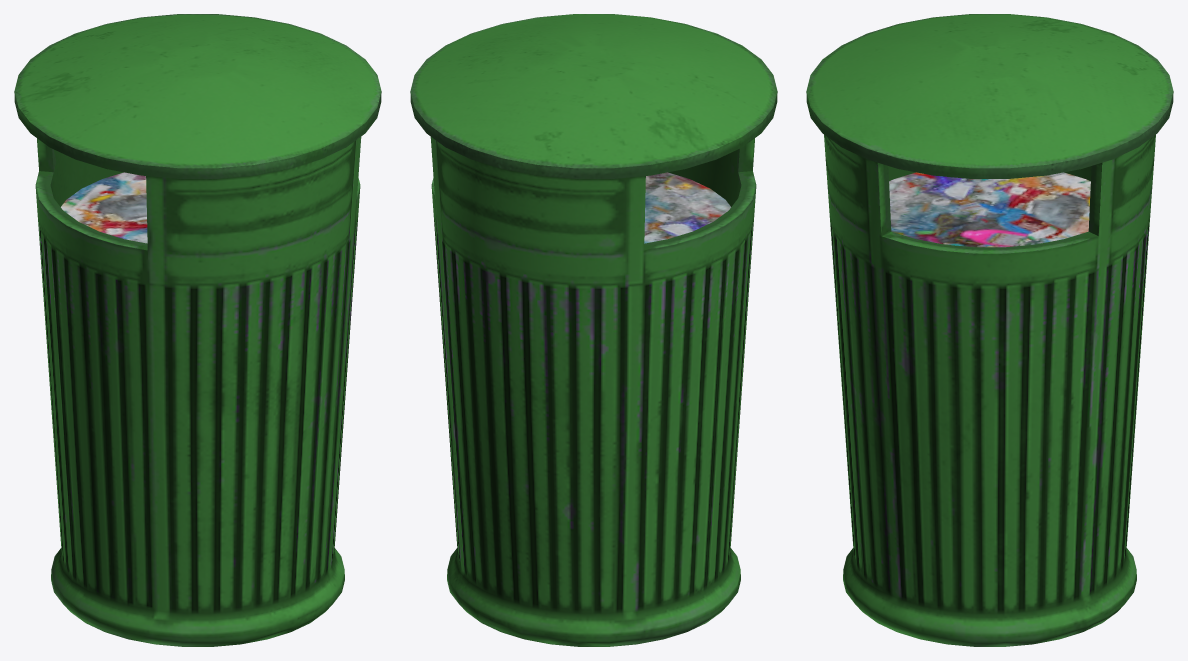
File: MB_Urn_02.fbx
3 views of the same model, side by side, from view 1: azimuth 30°, elevation 25°; view 2: azimuth 150°, elevation 25°; view 3: azimuth 270°, elevation 25° (orthographic).
Visible parts, largest first — view 1: MB_Urn_02_LOD0; view 2: MB_Urn_02_LOD0; view 3: MB_Urn_02_LOD0.
Boxes of the visible parts, x1,y1,x2,y2 form: MB_Urn_02_LOD0: [14, 14, 381, 646]; MB_Urn_02_LOD0: [410, 14, 777, 646]; MB_Urn_02_LOD0: [806, 14, 1173, 646].
Size of what is drawn, in the model's own units: 45.94 by 73.02 by 46.19.
